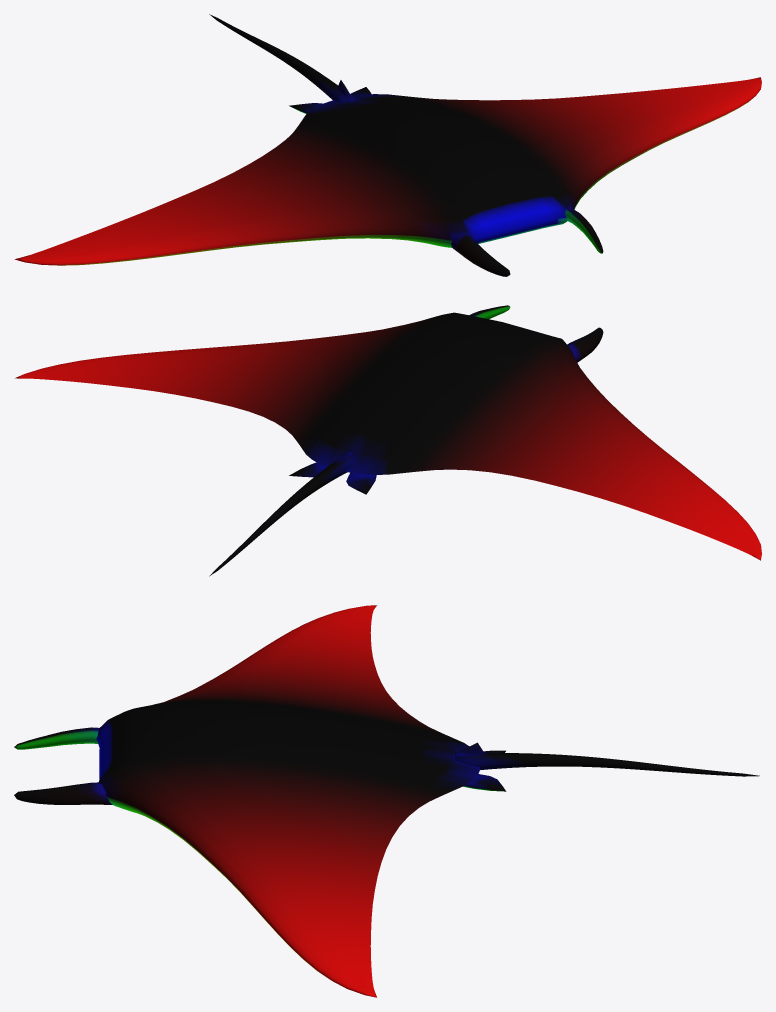
File: manta.glb
3 views of the same model, one above another, from view 1: azimuth 30°, elevation 25°; view 2: azimuth 150°, elevation 25°; view 3: azimuth 270°, elevation 25° (orthographic). The views are drawn at different scales.
Parts seen in each view (by area): view 1: manta; view 2: manta; view 3: manta.
Boxes of the visible parts, x1=… form: manta: x1=14, y1=14, x2=761, y2=276; manta: x1=15, y1=305, x2=761, y2=576; manta: x1=14, y1=605, x2=759, y2=997.
Bounding box in the file's own units: 7 × 0.6734 × 5.63.
